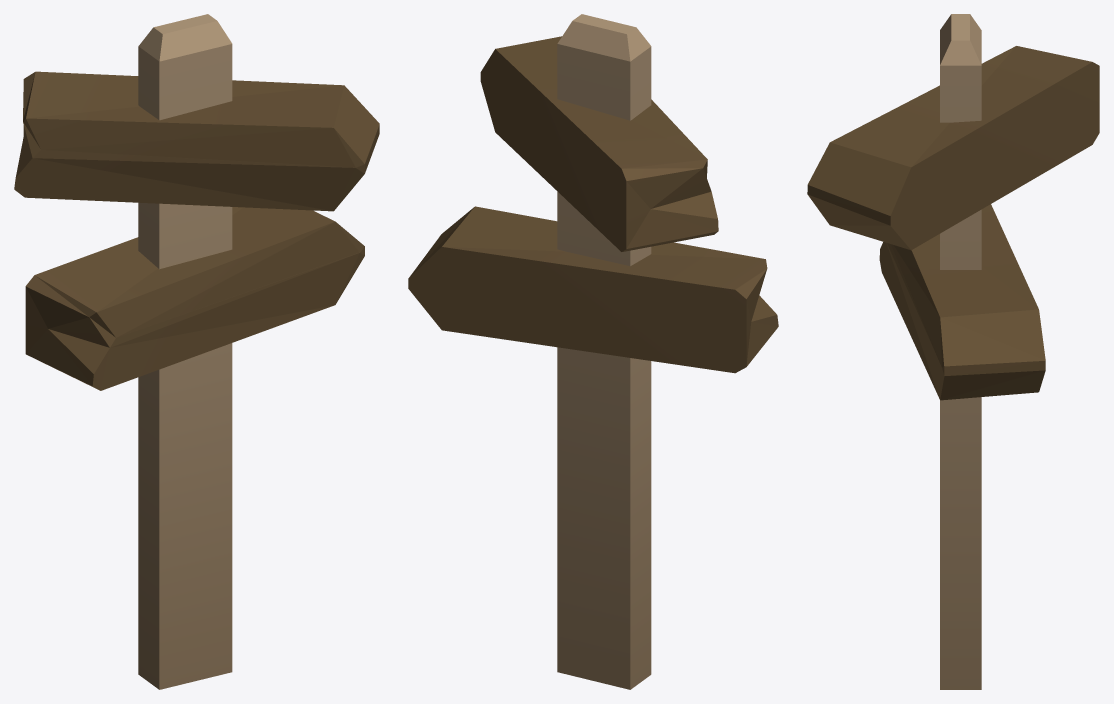
File: Signpost_Tall.fbx
3 renders of one model, left to right at view 1: azimuth 30°, elevation 25°; view 2: azimuth 150°, elevation 25°; view 3: azimuth 270°, elevation 25°, orthographic.
Parts seen in each view (by area): view 1: Signpost_Tall_Pillar, Signpost_Tall_High, Signpost_Tall_Low; view 2: Signpost_Tall_Pillar, Signpost_Tall_Low, Signpost_Tall_High; view 3: Signpost_Tall_High, Signpost_Tall_Low, Signpost_Tall_Pillar.
Boxes of the visible parts, x1,y1,x2,y2 form: Signpost_Tall_Pillar: [138, 14, 232, 689]; Signpost_Tall_High: [14, 71, 379, 211]; Signpost_Tall_Low: [25, 207, 364, 390]; Signpost_Tall_Pillar: [557, 14, 651, 689]; Signpost_Tall_Low: [408, 206, 778, 373]; Signpost_Tall_High: [480, 36, 718, 251]; Signpost_Tall_High: [807, 46, 1099, 250]; Signpost_Tall_Low: [879, 204, 1045, 400]; Signpost_Tall_Pillar: [940, 14, 981, 689].
Size of the model in its own units: 1.04 by 2 by 0.8192.
Materials: 1 (1 with a texture image).
